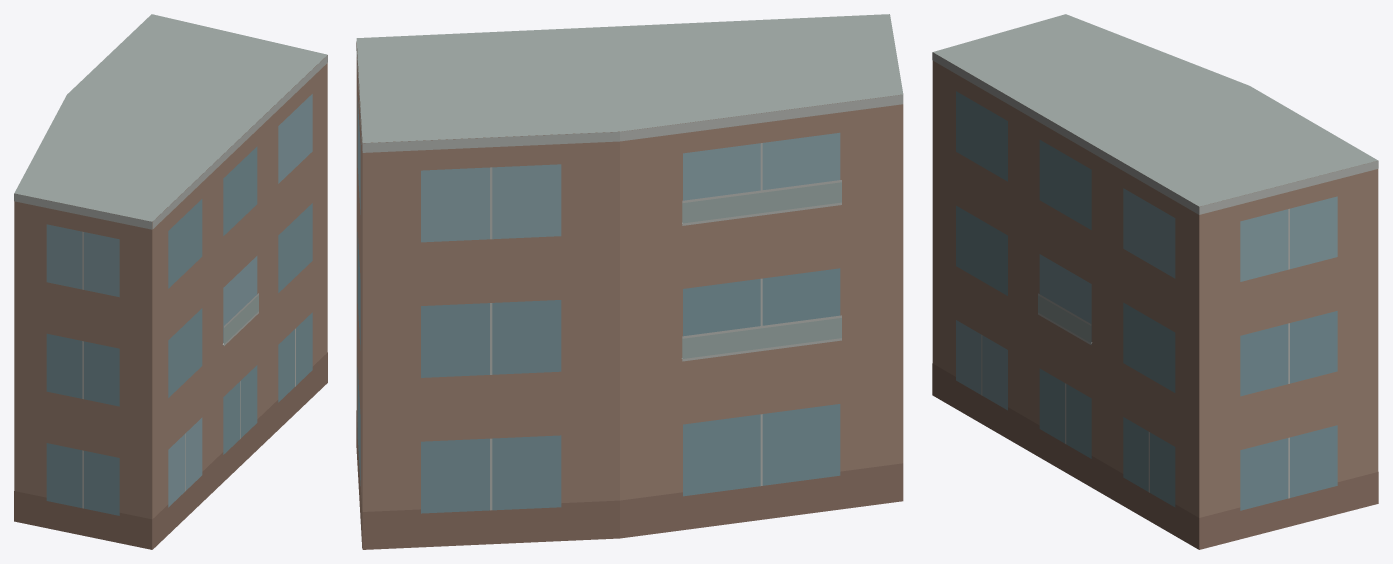
Rendered from survey-upis-32479299.glb.
3 renders of one model, left to right at view 1: azimuth 30°, elevation 25°; view 2: azimuth 150°, elevation 25°; view 3: azimuth 270°, elevation 25°, orthographic. The views are drawn at different scales.
Parts seen in each view (by area): view 1: survey-upis-32479299.tmp; view 2: survey-upis-32479299.tmp; view 3: survey-upis-32479299.tmp.
Boxes of the visible parts, left/top/right/bottom form: survey-upis-32479299.tmp: left=14, top=14, right=327, bottom=549; survey-upis-32479299.tmp: left=356, top=14, right=903, bottom=549; survey-upis-32479299.tmp: left=932, top=14, right=1378, bottom=549.
Size of the model in its own units: 12.17 by 10.1 by 11.9.
